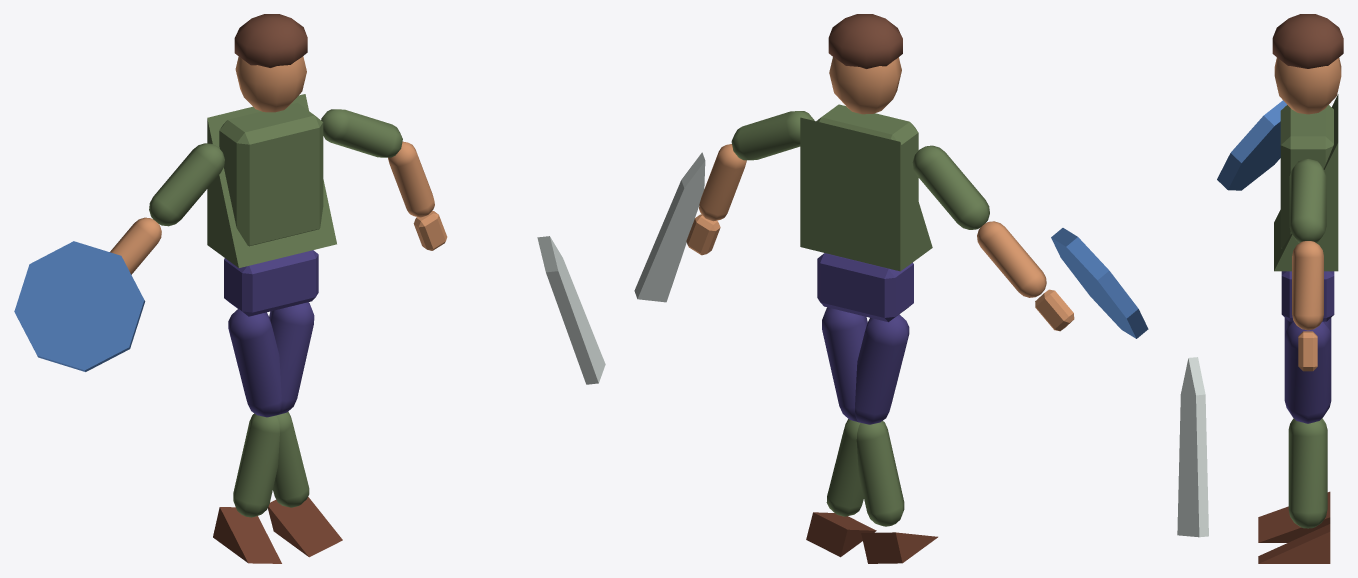
File: adventurer.rustic.glb
3 renders of one model, left to right at view 1: azimuth 30°, elevation 25°; view 2: azimuth 150°, elevation 25°; view 3: azimuth 270°, elevation 25°, orthographic.
Parts seen in each view (by area): view 1: accessory.off-hand, torso, tunic, pelvis, thigh.left, shin.right, accessory.main-hand, upper-arm.left, hair, thigh.right, head, upper-arm.right (+6 smaller); view 2: tunic, pelvis, thigh.left, accessory.main-hand, shin.right, accessory.off-hand, upper-arm.left, hair, thigh.right, head, forearm.left, upper-arm.right (+7 smaller); view 3: accessory.main-hand, shin.left, thigh.right, torso, hair, accessory.off-hand, upper-arm.right, tunic, head, forearm.right, foot.left, foot.right (+2 smaller).
Boxes of the visible parts, x1,y1,x2,y2 form: accessory.off-hand: [14, 241, 145, 371]; torso: [219, 103, 323, 246]; tunic: [207, 94, 336, 267]; pelvis: [224, 250, 318, 316]; thigh.left: [228, 309, 281, 417]; shin.right: [233, 413, 279, 517]; accessory.main-hand: [537, 236, 605, 384]; upper-arm.left: [149, 143, 224, 226]; hair: [234, 14, 307, 67]; thigh.right: [269, 302, 314, 414]; head: [235, 56, 306, 112]; upper-arm.right: [321, 109, 402, 157]; tunic: [800, 117, 932, 271]; pelvis: [817, 253, 913, 322]; thigh.left: [855, 314, 909, 424]; accessory.main-hand: [634, 152, 705, 302]; shin.right: [856, 421, 904, 526]; accessory.off-hand: [1051, 228, 1148, 338]; upper-arm.left: [912, 145, 989, 229]; hair: [828, 14, 902, 68]; thigh.right: [822, 307, 867, 422]; head: [829, 57, 901, 114]; forearm.left: [977, 221, 1046, 297]; upper-arm.right: [731, 111, 814, 160]; accessory.main-hand: [1177, 357, 1208, 537]; shin.left: [1288, 419, 1327, 528]; thigh.right: [1284, 321, 1331, 423]; torso: [1280, 105, 1333, 248]; hair: [1272, 14, 1343, 68]; accessory.off-hand: [1217, 100, 1286, 190]; upper-arm.right: [1289, 159, 1326, 242]; tunic: [1274, 94, 1338, 271]; head: [1274, 57, 1341, 114]; forearm.right: [1292, 241, 1323, 330]; foot.left: [1258, 524, 1330, 563]; foot.right: [1258, 491, 1330, 542].
Size of the model in its own units: 3.26 by 3.01 by 0.854.
